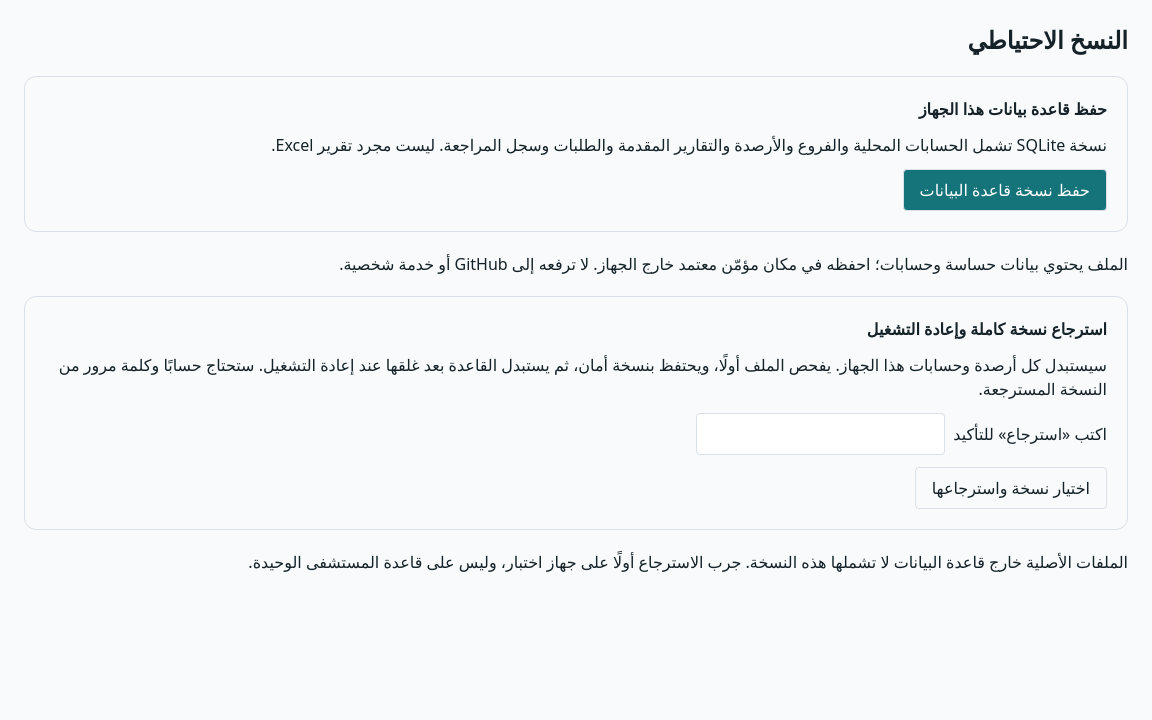
Test case: exports the actual local database through the authenticated native API
Click the button "حفظ نسخة قاعدة البيانات". click: (1005, 190)
box: [903,169,1107,211]
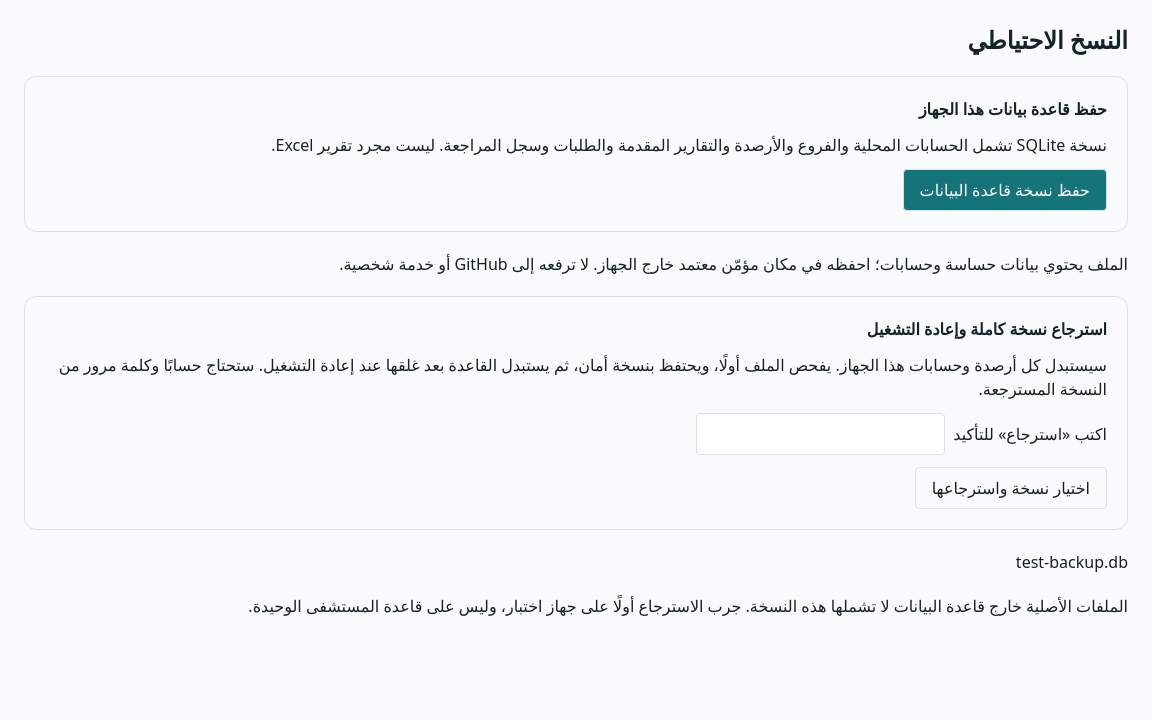
Now the message reads "test-backup.db", box [1016,551,1128,573]
